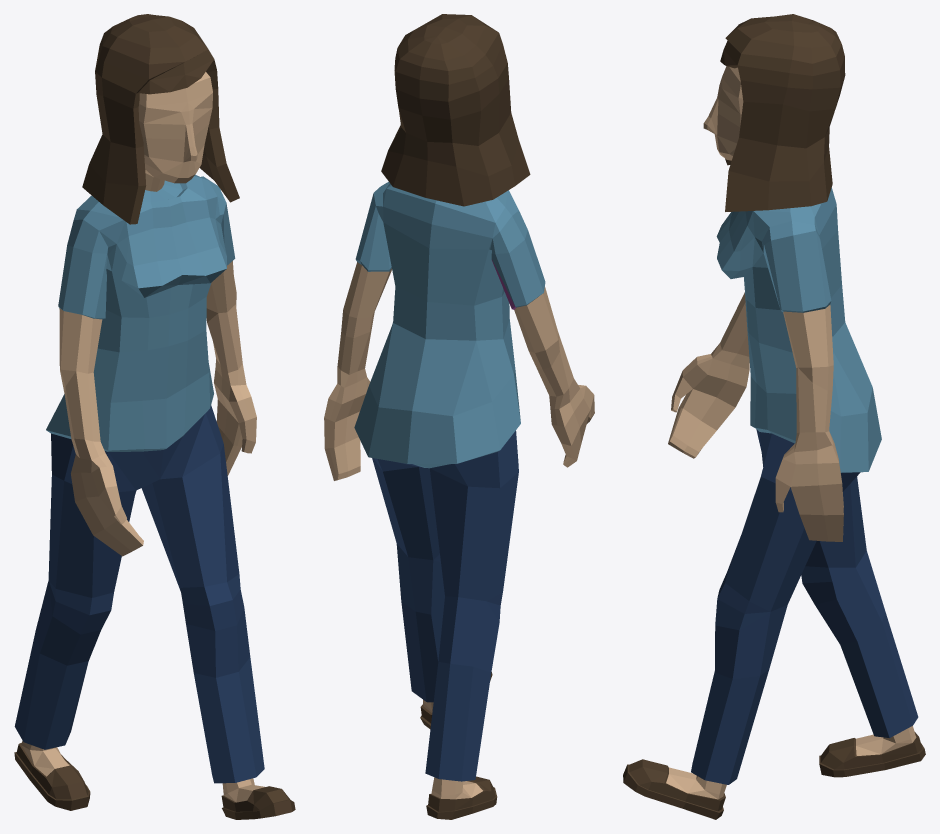
The model's file is 53 People_female_4.fbx.
The picture shows the model from 3 angles, left to right: view 1: azimuth 30°, elevation 25°; view 2: azimuth 150°, elevation 25°; view 3: azimuth 270°, elevation 25°; orthographic projection. The views are drawn at different scales.
Parts seen in each view (by area): view 1: Female_Walking8; view 2: Female_Walking8; view 3: Female_Walking8.
Boxes of the visible parts, box(x1,y1,x2,y2) form: Female_Walking8: box(14, 14, 295, 819); Female_Walking8: box(324, 14, 594, 819); Female_Walking8: box(623, 14, 925, 819).
Size of the model in its own units: 10.28 by 37.22 by 13.13.
